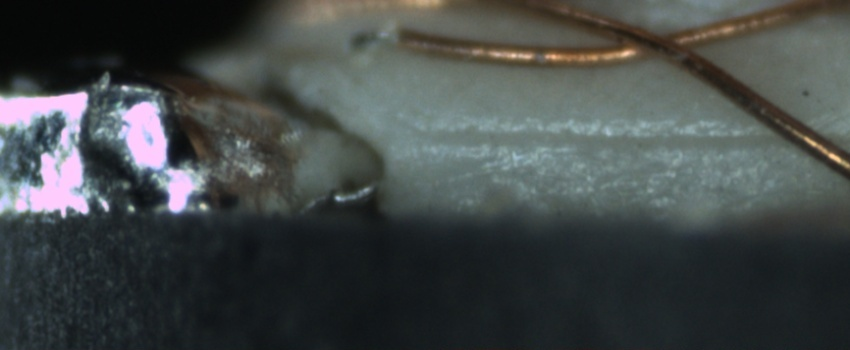CL: (601, 20, 721, 70)
DL: (411, 104, 850, 167)
